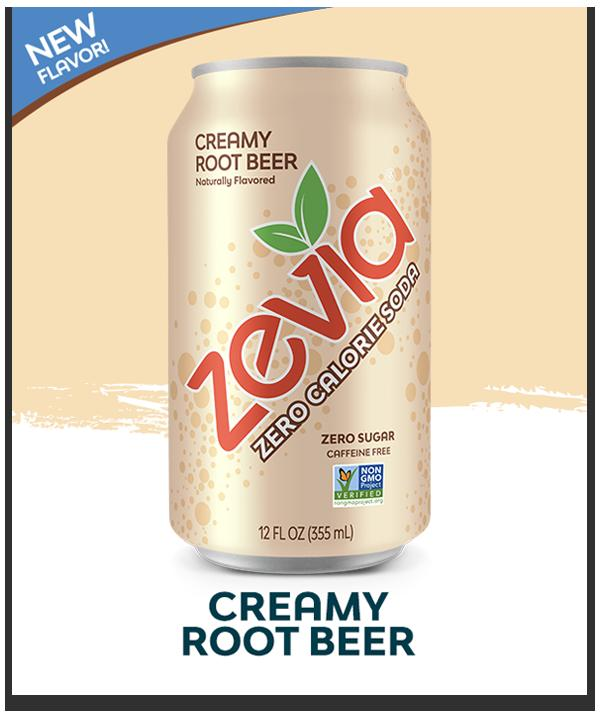metal: (126, 9, 503, 583)
